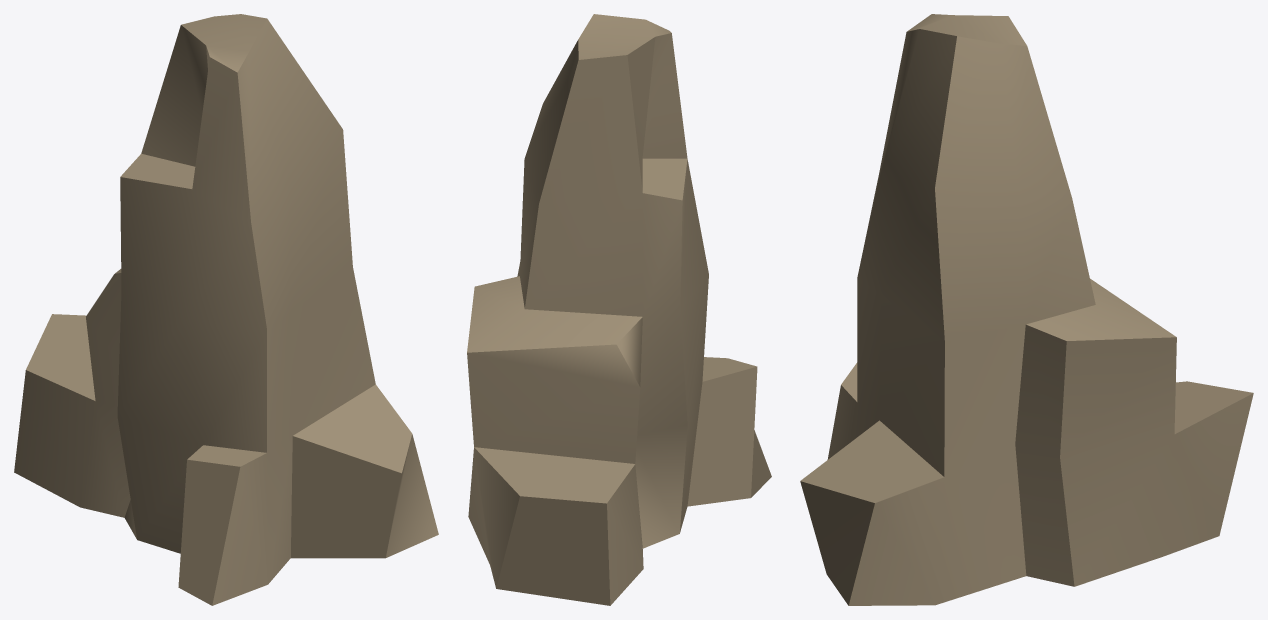
The model's file is rocks_tall_lrg.fbx.
3 views of the same model, side by side, from view 1: azimuth 30°, elevation 25°; view 2: azimuth 150°, elevation 25°; view 3: azimuth 270°, elevation 25° (orthographic). The views are drawn at different scales.
Parts seen in each view (by area): view 1: rocks_tall_lrg; view 2: rocks_tall_lrg; view 3: rocks_tall_lrg.
Part boxes in pixels (box(x1,y1,x2,y2)): rocks_tall_lrg: box(14, 14, 438, 605); rocks_tall_lrg: box(467, 14, 771, 605); rocks_tall_lrg: box(800, 14, 1253, 605).
Bounding box in the file's own units: 67.55 × 130 × 104.
